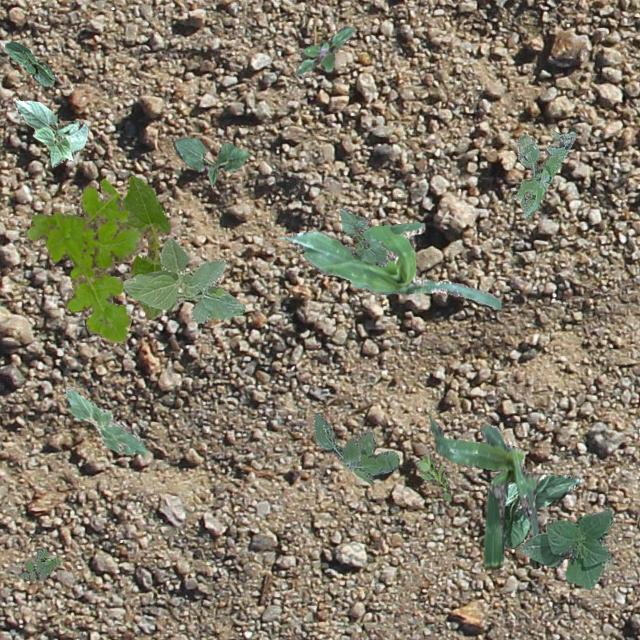crop: (284, 222, 500, 308), (430, 418, 540, 568), (122, 238, 244, 322), (518, 510, 612, 590), (120, 174, 168, 318), (500, 472, 580, 546), (65, 386, 146, 454), (12, 98, 86, 166), (172, 137, 250, 186), (338, 207, 386, 266), (4, 40, 54, 84)
weed: (25, 178, 142, 344), (312, 412, 398, 483), (512, 130, 576, 218), (294, 26, 352, 76), (414, 450, 450, 500), (18, 548, 60, 580)
